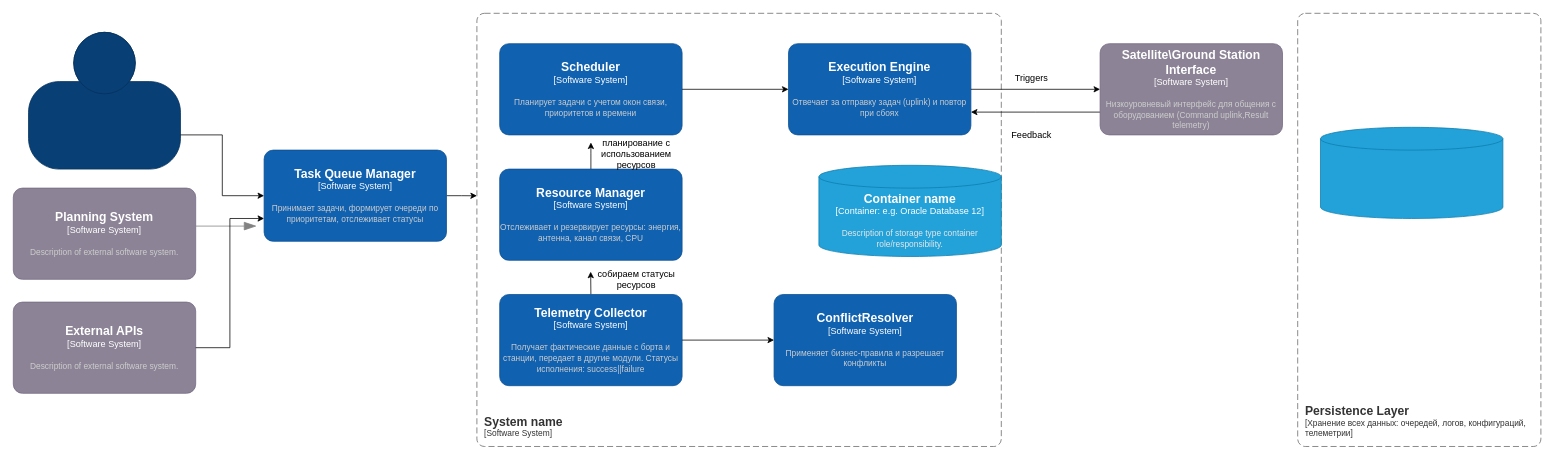
Image size: 1554x460. Some labels were removed from this diagram. Each missing label, with the centre of its shape:
DB [Container: e.g. Oracle Database 12] Tasks, Logs, State, Telemetry, Configs: the point at 1411,172
Operator [Person] Description of person.: the point at 104,100
